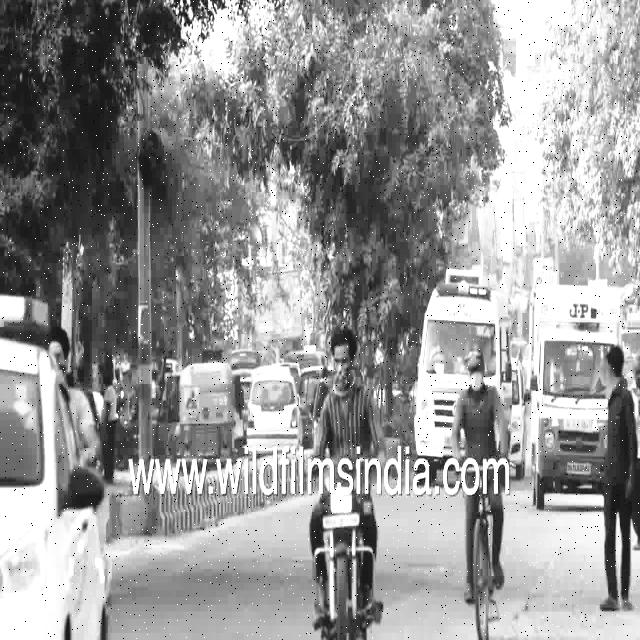Ambulance: (404, 254, 524, 499)
